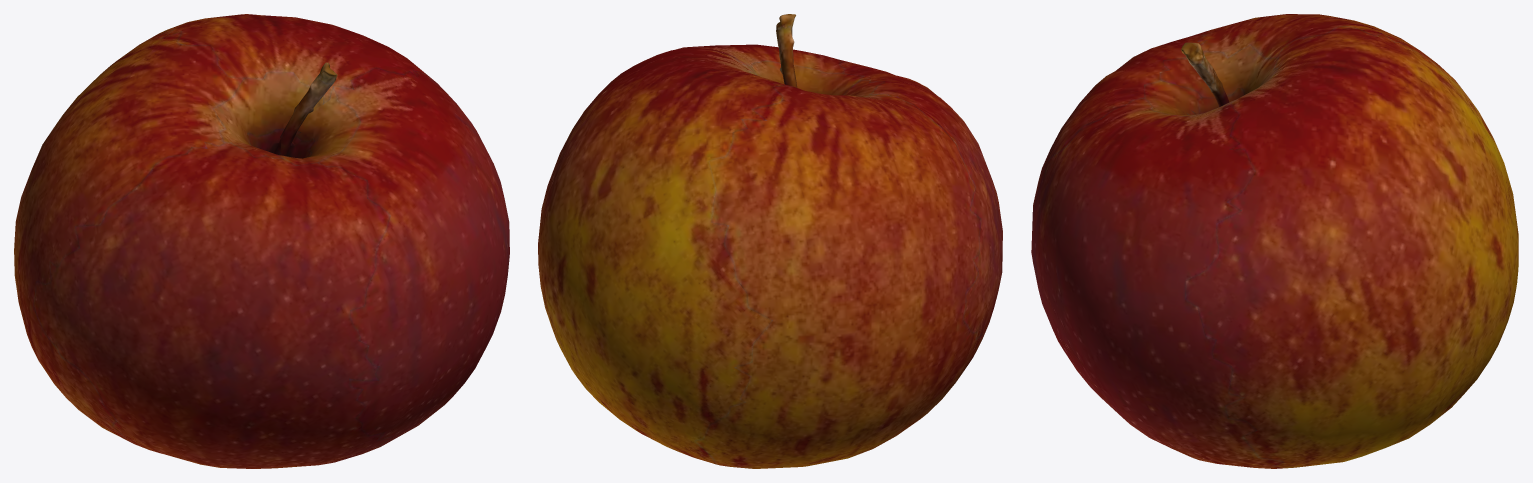
Rendered from food_apple_01-FHaCaAzi.glb.
The picture shows the model from 3 angles, left to right: view 1: azimuth 30°, elevation 25°; view 2: azimuth 150°, elevation 25°; view 3: azimuth 270°, elevation 25°; orthographic projection. The views are drawn at different scales.
Parts seen in each view (by area): view 1: food_apple_01; view 2: food_apple_01; view 3: food_apple_01.
Boxes of the visible parts, bbox=[...] form: food_apple_01: bbox=[14, 14, 509, 468]; food_apple_01: bbox=[538, 14, 1002, 468]; food_apple_01: bbox=[1031, 14, 1518, 468].
Bounding box in the file's own units: 0.0976 × 0.0854 × 0.0958.
Materials: 1 (1 with a texture image).
